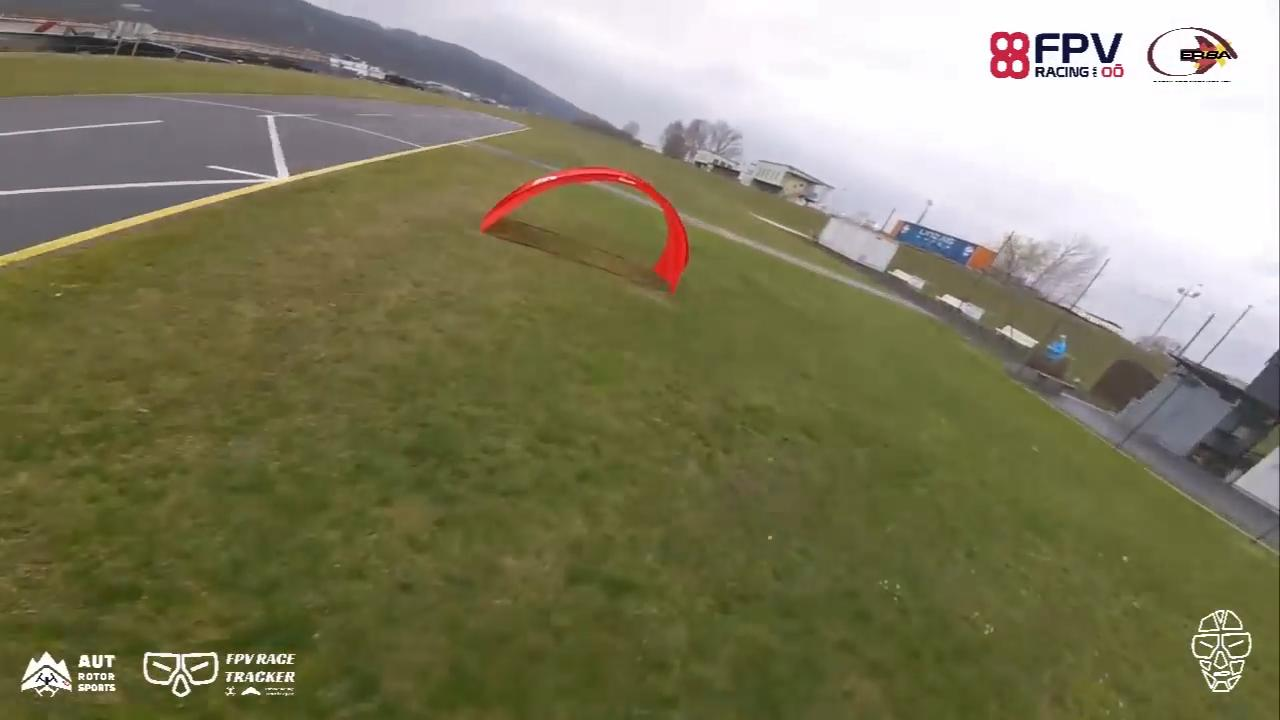gate: (479, 163, 689, 300)
